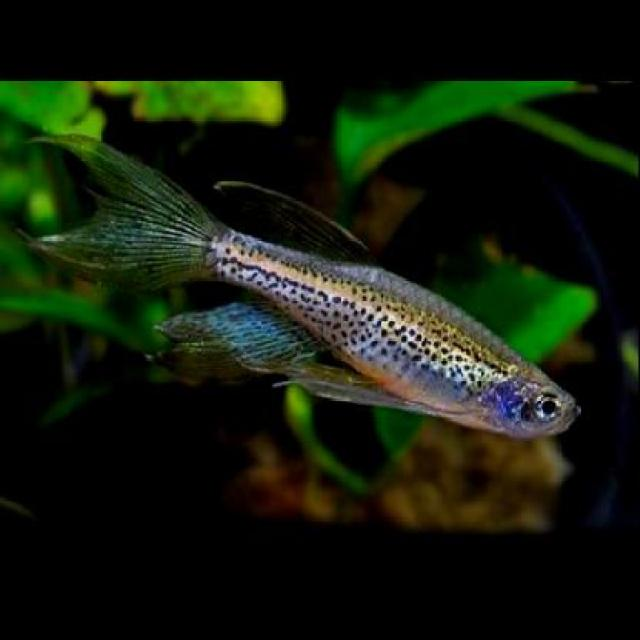ZebraFish: (190, 227, 588, 436)
